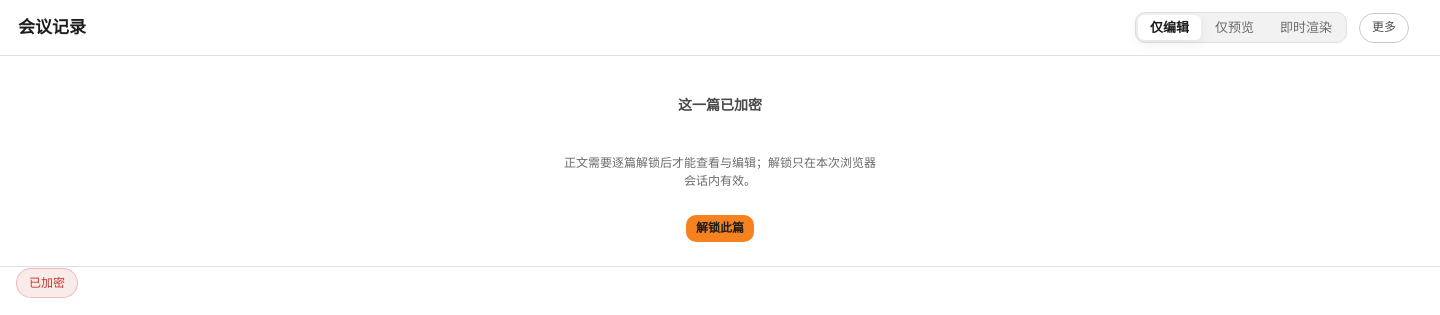
「更多」菜单里的加密动作 › 已加密但未解锁时：取消加密被拦住并说明原因
The width and height of the screenshot is (1440, 315).
Click the button "更多": click(1392, 28) [1359, 12, 1424, 42]
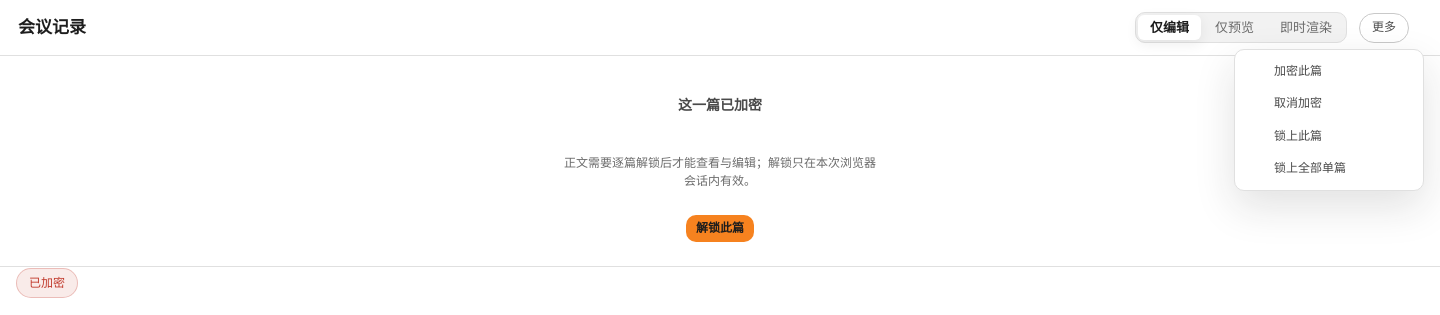
expect the menu item "取消加密" is disabled: met, box [1240, 87, 1418, 120]
